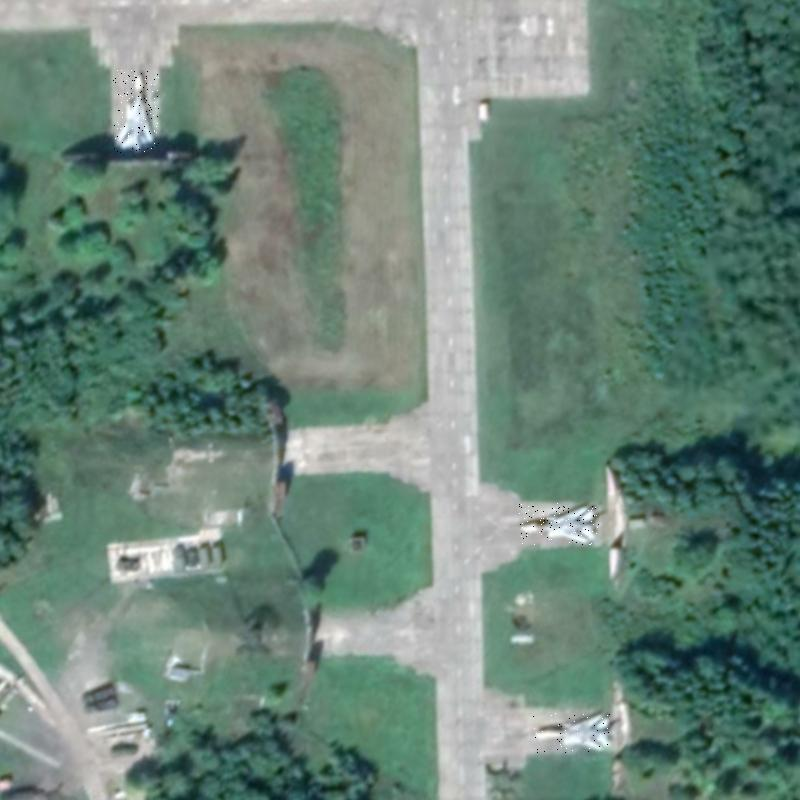A20: (113, 70, 159, 153), (533, 711, 614, 753), (519, 503, 599, 545)
